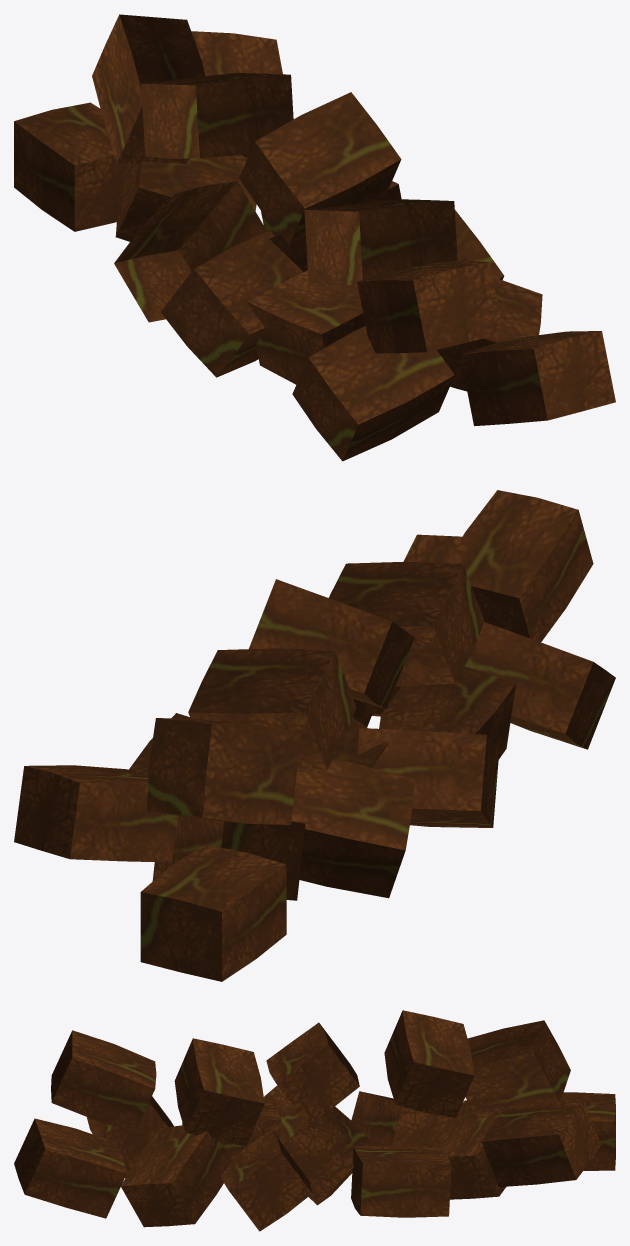
Rendered from Meat_InBurrito.fbx.
The picture shows the model from 3 angles, top to bottom: view 1: azimuth 30°, elevation 25°; view 2: azimuth 150°, elevation 25°; view 3: azimuth 270°, elevation 25°; orthographic projection. The views are drawn at different scales.
Parts seen in each view (by area): view 1: Meat_InBurrito; view 2: Meat_InBurrito; view 3: Meat_InBurrito.
Boxes of the visible parts, x1,y1,x2,y2 form: Meat_InBurrito: (14, 14, 615, 461); Meat_InBurrito: (14, 490, 615, 981); Meat_InBurrito: (14, 1010, 615, 1231).
Bounding box in the file's own units: 0.3216 × 0.2492 × 0.8037.
1 material, 1 textured.
